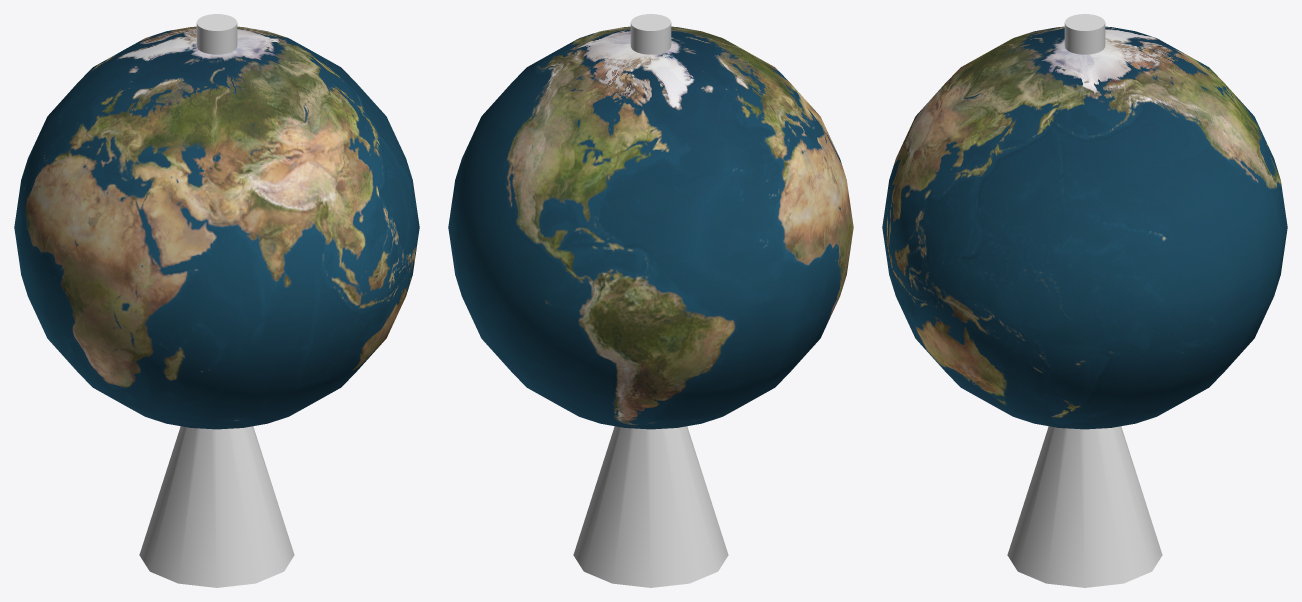
The model's file is Глобус.fbx.
3 renders of one model, left to right at view 1: azimuth 30°, elevation 25°; view 2: azimuth 150°, elevation 25°; view 3: azimuth 270°, elevation 25°, orthographic.
Parts seen in each view (by area): view 1: Объект_Сфера, Объект_Цилиндр, Объект_Цилиндр_1; view 2: Объект_Сфера, Объект_Цилиндр, Объект_Цилиндр_1; view 3: Объект_Сфера, Объект_Цилиндр, Объект_Цилиндр_1.
Part boxes in pixels (x1=…): Объект_Сфера: x1=14, y1=26, x2=419, y2=429; Объект_Цилиндр: x1=139, y1=426, x2=294, y2=587; Объект_Цилиндр_1: x1=196, y1=14, x2=237, y2=54; Объект_Сфера: x1=448, y1=26, x2=853, y2=429; Объект_Цилиндр: x1=573, y1=426, x2=728, y2=587; Объект_Цилиндр_1: x1=630, y1=14, x2=671, y2=54; Объект_Сфера: x1=882, y1=26, x2=1287, y2=429; Объект_Цилиндр: x1=1007, y1=426, x2=1162, y2=587; Объект_Цилиндр_1: x1=1064, y1=14, x2=1105, y2=54.
Size of the model in its own units: 200 by 290 by 200.
Materials: 1 (1 with a texture image).
